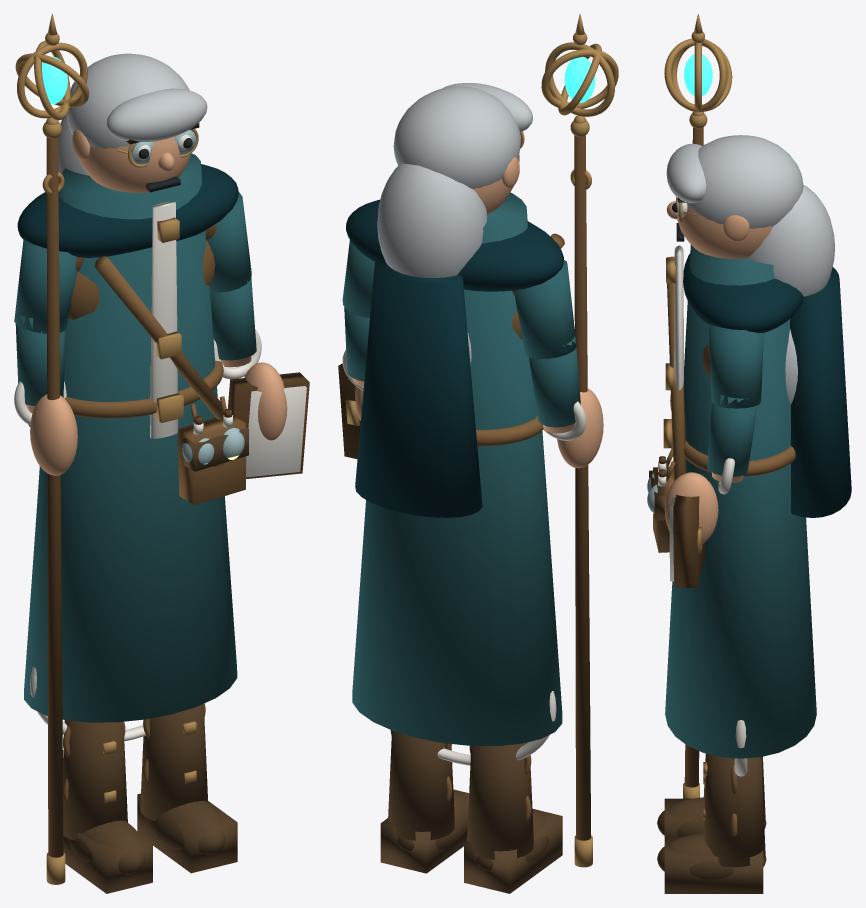
File: 3D模型 char_mage.glb
The picture shows the model from 3 angles, left to right: view 1: azimuth 30°, elevation 25°; view 2: azimuth 150°, elevation 25°; view 3: azimuth 270°, elevation 25°; orthographic projection. The views are drawn at different scales.
Parts seen in each view (by area): view 1: char_mage_robe, char_mage_pole, char_mage_mantle, char_mage_boot_L, char_mage_boot_R, char_mage_hair, char_mage_vtrim, char_mage_fringe, char_mage_slvu_L, char_mage_pages, char_mage_head, char_mage_satchel (+21 smaller); view 2: char_mage_robe, char_mage_capebk, char_mage_hairbkA, char_mage_hair, char_mage_pole, char_mage_boot_L, char_mage_mantle, char_mage_boot_R, char_mage_slvu_L, char_mage_foot_L, char_mage_slvl_L, char_mage_foot_R (+15 smaller); view 3: char_mage_robe, char_mage_capebk, char_mage_hair, char_mage_boot_R, char_mage_hairbkA, char_mage_mantle, char_mage_slvu_R, char_mage_foot_R, char_mage_slvl_R, char_mage_cover, char_mage_head, char_mage_fringe (+16 smaller).
Part boxes in pixels (x1,y1,x2,y2): char_mage_robe: [24, 153, 237, 722]; char_mage_pole: [46, 137, 63, 857]; char_mage_mantle: [17, 164, 238, 257]; char_mage_boot_L: [63, 720, 127, 840]; char_mage_boot_R: [140, 703, 207, 820]; char_mage_hair: [66, 53, 189, 148]; char_mage_vtrim: [150, 201, 178, 438]; char_mage_fringe: [106, 88, 207, 141]; char_mage_slvu_L: [14, 239, 77, 333]; char_mage_pages: [246, 386, 306, 477]; char_mage_head: [78, 130, 193, 192]; char_mage_satchel: [177, 416, 245, 505]; char_mage_robe: [352, 192, 562, 745]; char_mage_capebk: [355, 257, 482, 517]; char_mage_hairbkA: [377, 163, 487, 277]; char_mage_hair: [393, 86, 520, 188]; char_mage_pole: [574, 135, 591, 840]; char_mage_boot_L: [467, 742, 533, 859]; char_mage_mantle: [346, 199, 563, 291]; char_mage_boot_R: [388, 730, 454, 840]; char_mage_slvu_L: [515, 260, 576, 359]; char_mage_foot_L: [464, 809, 562, 893]; char_mage_slvl_L: [529, 334, 580, 427]; char_mage_foot_R: [380, 789, 468, 873]; char_mage_robe: [665, 244, 816, 758]; char_mage_capebk: [790, 267, 851, 517]; char_mage_hair: [686, 135, 803, 228]; char_mage_boot_R: [703, 754, 765, 867]; char_mage_hairbkA: [747, 185, 834, 296]; char_mage_mantle: [683, 253, 803, 333]; char_mage_slvu_R: [708, 323, 763, 408]; char_mage_foot_R: [664, 836, 763, 893]; char_mage_slvl_R: [707, 395, 757, 476]; char_mage_cover: [673, 473, 705, 588]; char_mage_head: [675, 197, 773, 259]; char_mage_fringe: [666, 143, 706, 203].
Bounding box in the file's own units: 0.6664 × 1.98 × 0.456.
